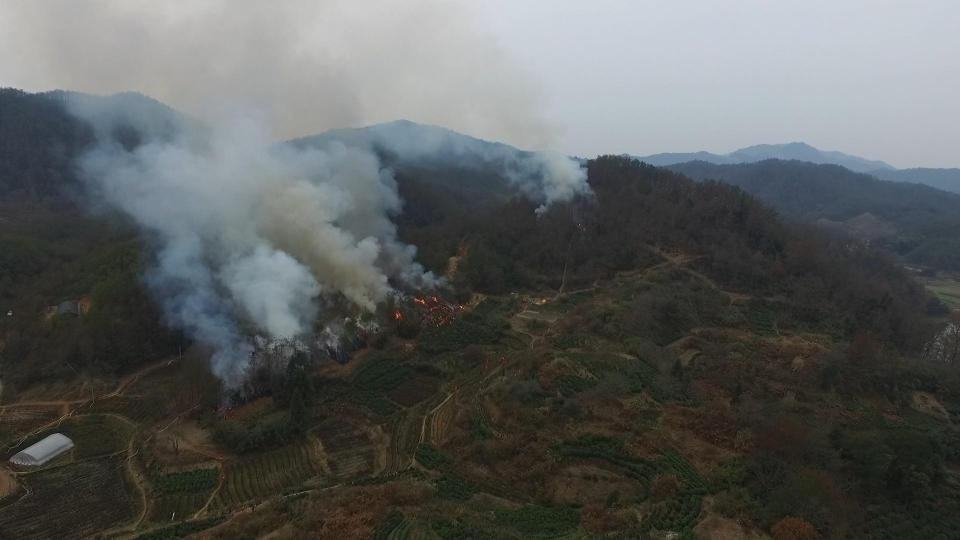fire: (378, 280, 477, 333)
